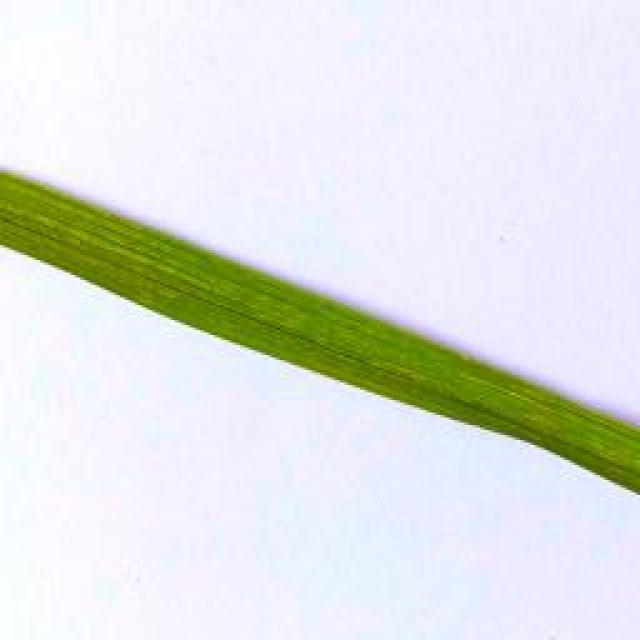Healthy-Plant: (0, 156, 640, 504)
